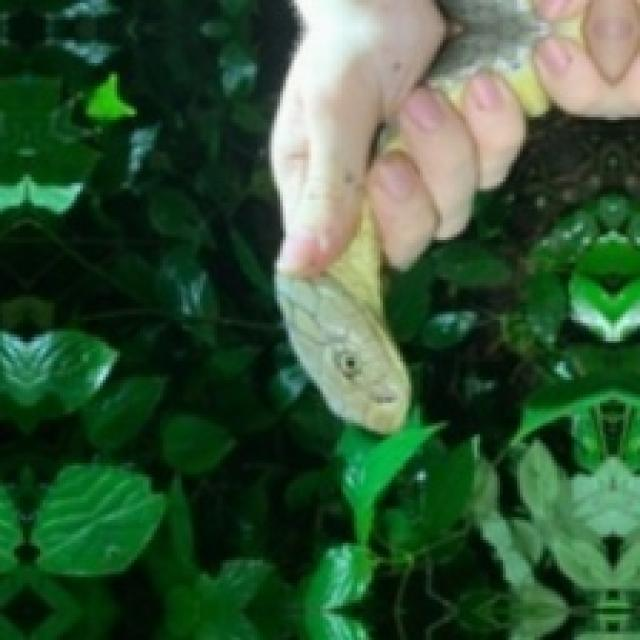king cobra: (271, 0, 637, 429), (271, 0, 523, 431)
